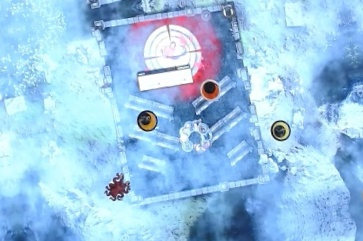giant_red_octopus: (97, 169, 135, 206)
lime_green_violet: (266, 118, 292, 145)
orange: (196, 76, 223, 103)
yellow_night_blue: (133, 107, 160, 134)
